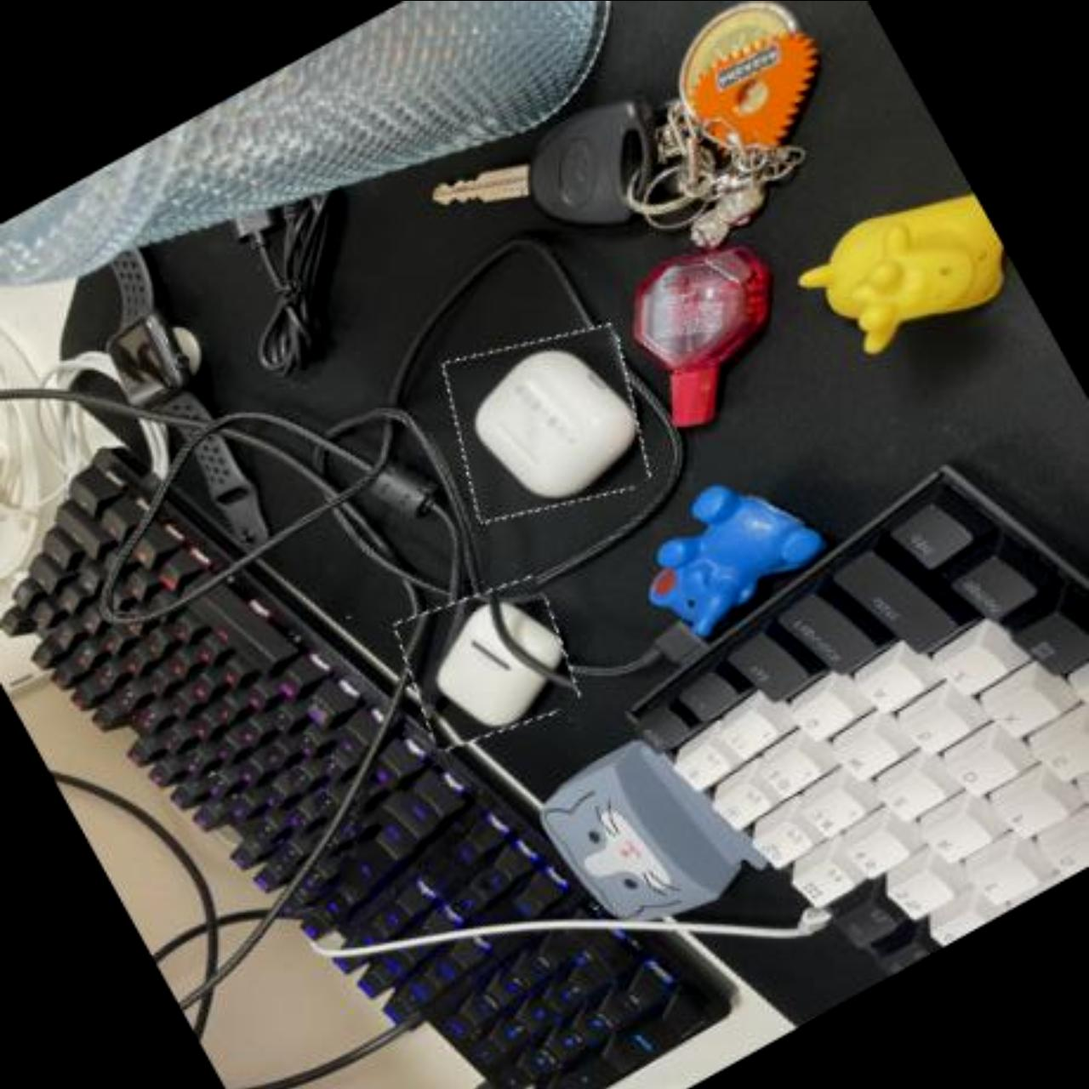AirPods: (416, 297, 674, 550), (379, 560, 591, 766)
